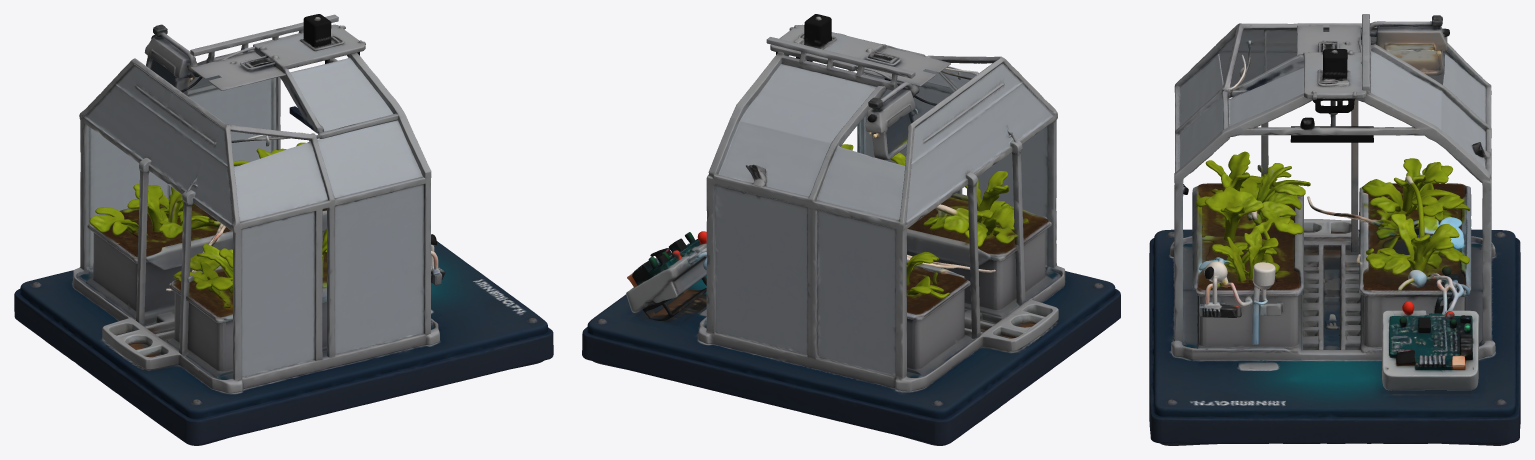
File: sensoura-greenhouse-assembly.glb
3 renders of one model, left to right at view 1: azimuth 30°, elevation 25°; view 2: azimuth 150°, elevation 25°; view 3: azimuth 270°, elevation 25°, orthographic. The views are drawn at different scales.
Visible parts, largest first — view 1: tripo_node_bce6ef94-dcc3-4072-90af-9a81d4fdcddd; view 2: tripo_node_bce6ef94-dcc3-4072-90af-9a81d4fdcddd; view 3: tripo_node_bce6ef94-dcc3-4072-90af-9a81d4fdcddd.
Part boxes in pixels (box(x1,y1,x2,y2)): tripo_node_bce6ef94-dcc3-4072-90af-9a81d4fdcddd: box(14, 14, 553, 445); tripo_node_bce6ef94-dcc3-4072-90af-9a81d4fdcddd: box(582, 14, 1120, 445); tripo_node_bce6ef94-dcc3-4072-90af-9a81d4fdcddd: box(1149, 14, 1520, 445).
Bounding box in the file's own units: 0.4275 × 0.35 × 0.3639.
Materials: 1 (1 with a texture image).
